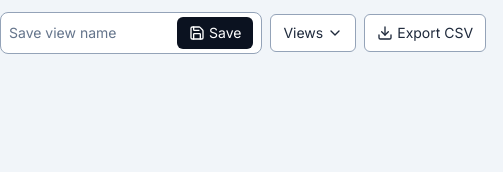
Test: ListWorkflowControls › gives saved-view delete controls an accessible name
Click the button "Views": {"x": 313, "y": 33} [270,14,356,52]
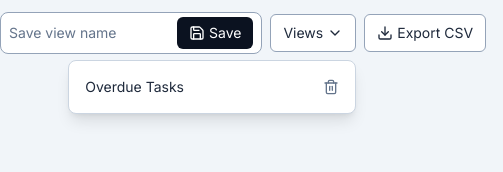
Expected: the button "Overdue Tasks" is shown, [85,77,184,97]
Expected: the button named "Delete saved view Overdue Tasks" is shown, [323,79,339,95]
